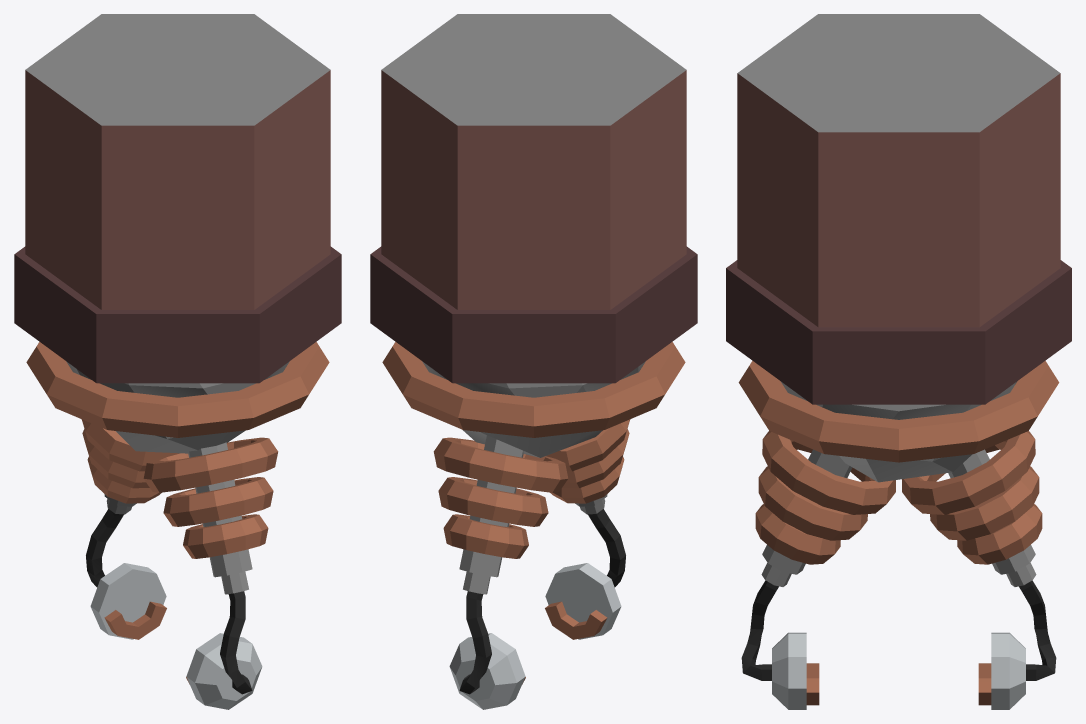
Rendered from CopperMetalMechMediumTwinElectrodes1.fbx.
The picture shows the model from 3 angles, left to right: view 1: azimuth 30°, elevation 25°; view 2: azimuth 150°, elevation 25°; view 3: azimuth 270°, elevation 25°; orthographic projection. The views are drawn at different scales.
Parts seen in each view (by area): view 1: CopperMetalMechMediumTwinElectrodes1; view 2: CopperMetalMechMediumTwinElectrodes1; view 3: CopperMetalMechMediumTwinElectrodes1.
Part boxes in pixels (x1,y1,x2,y2): CopperMetalMechMediumTwinElectrodes1: (14,14,341,709); CopperMetalMechMediumTwinElectrodes1: (370,14,697,709); CopperMetalMechMediumTwinElectrodes1: (726,14,1071,709).
Size of the model in its own units: 300 by 657 by 324.
